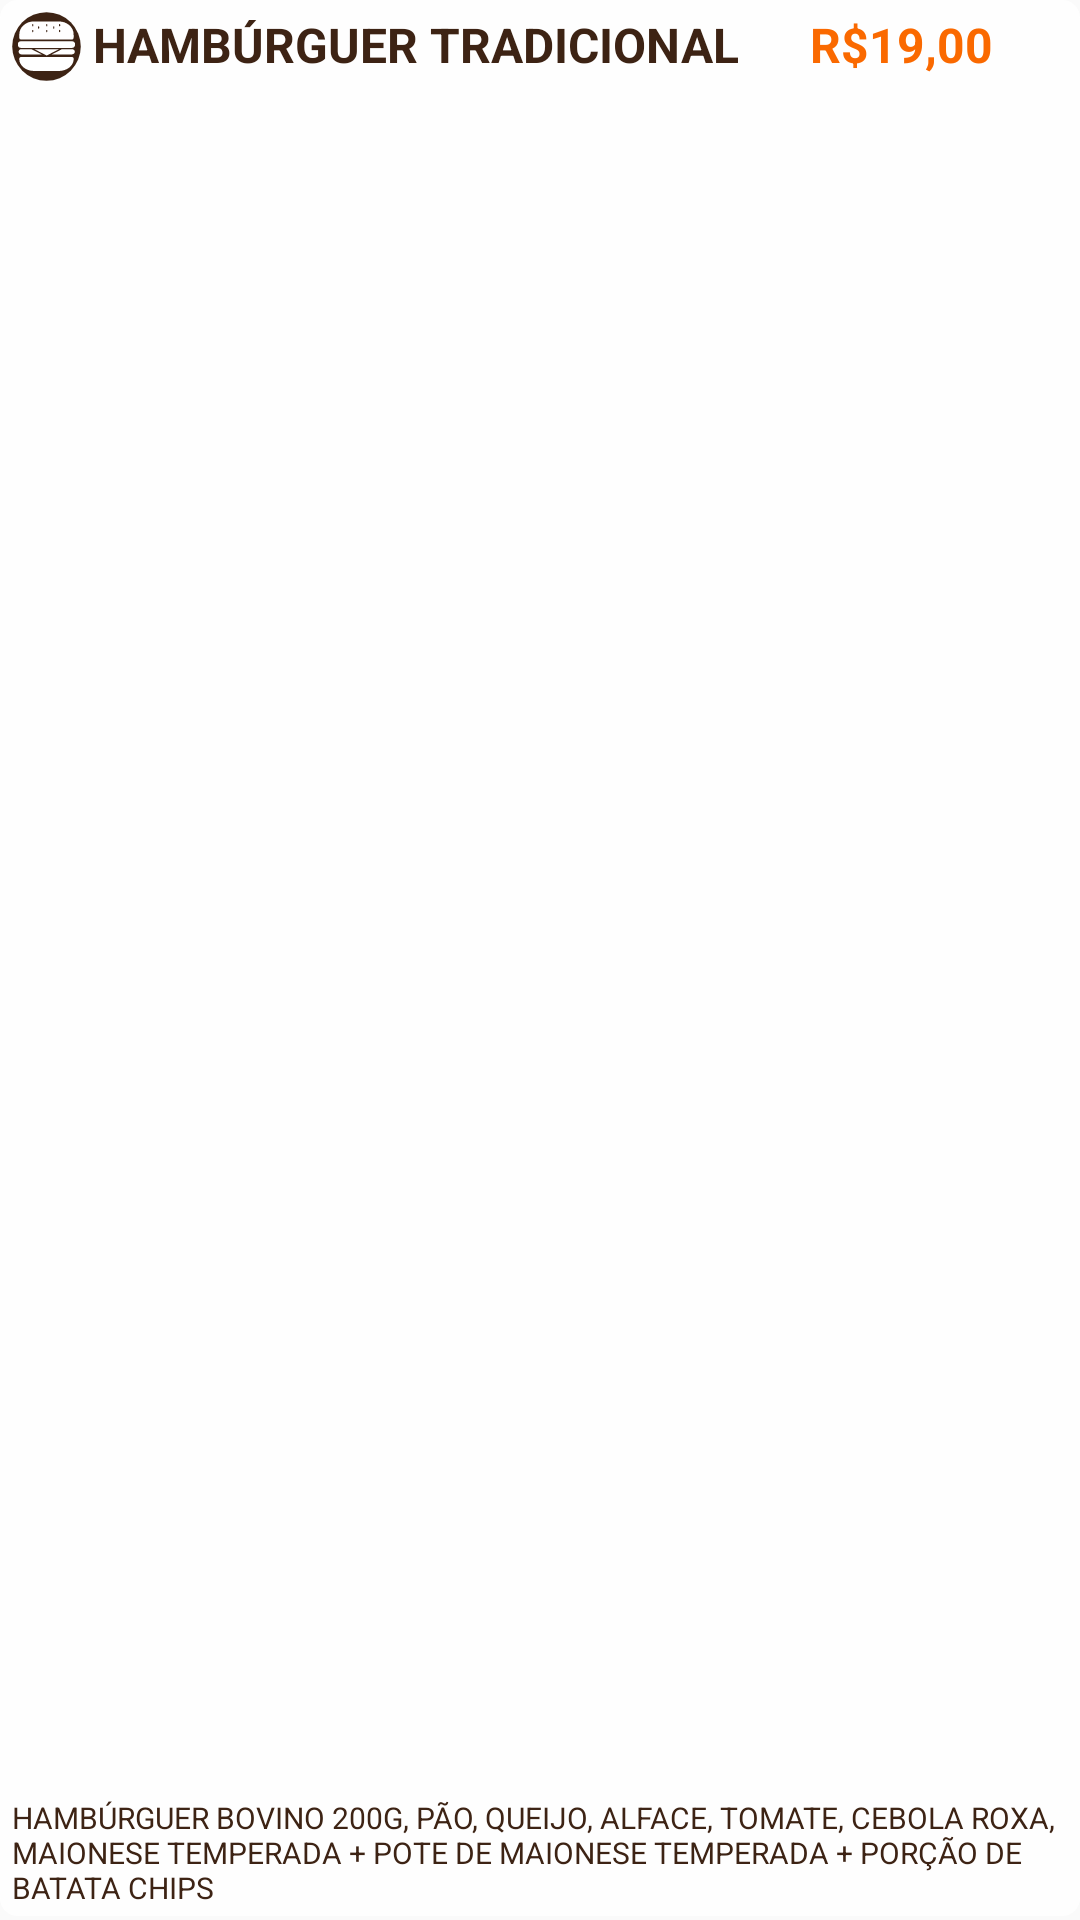

Icon bounding boxes for this 1080*1920 phone screenshot, format (x1, y1, x2, y2):
filtro lanches inativo: (12, 12, 81, 81)
